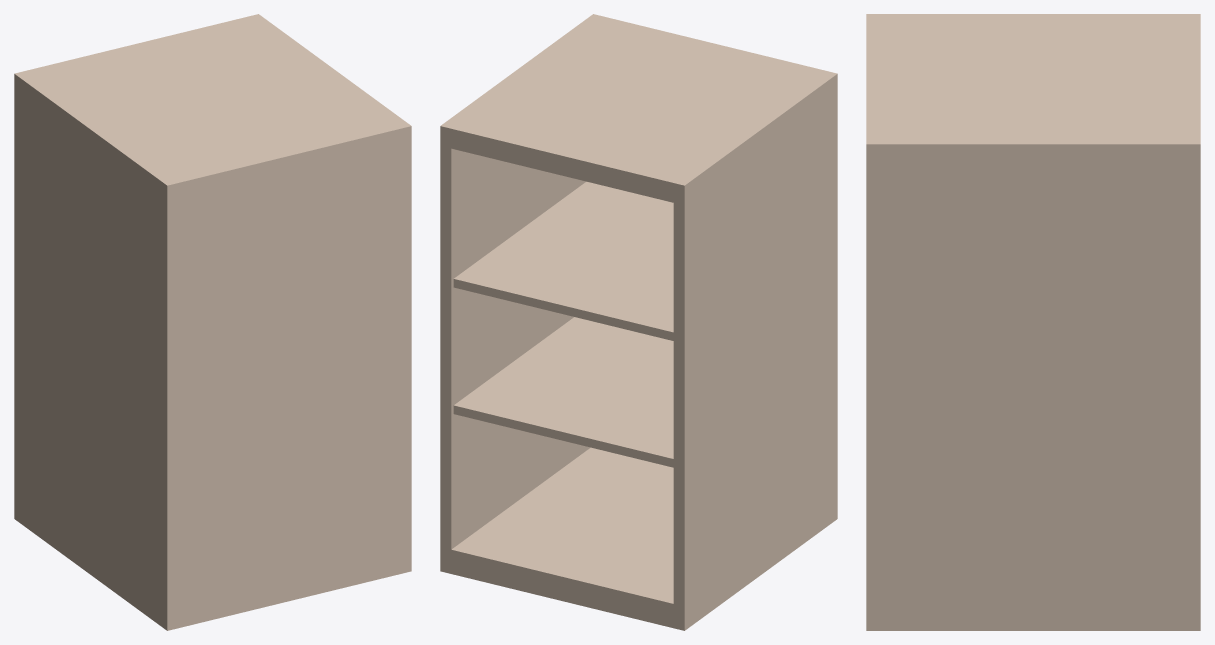
File: cupboard_right.dae
The picture shows the model from 3 angles, left to right: view 1: azimuth 30°, elevation 25°; view 2: azimuth 150°, elevation 25°; view 3: azimuth 270°, elevation 25°; orthographic projection. The views are drawn at different scales.
Parts seen in each view (by area): view 1: cupboard_body_1; view 2: cupboard_body_1, shelf_1, shelf__1__1; view 3: cupboard_body_1.
Part boxes in pixels (bbox=[...]): cupboard_body_1: bbox=[14, 14, 411, 630]; cupboard_body_1: bbox=[440, 14, 837, 630]; shelf_1: bbox=[453, 181, 673, 340]; shelf__1__1: bbox=[453, 317, 673, 467]; cupboard_body_1: bbox=[866, 14, 1200, 630].
Bounding box in the file's own units: 0.59 × 0.64 × 1.03.
